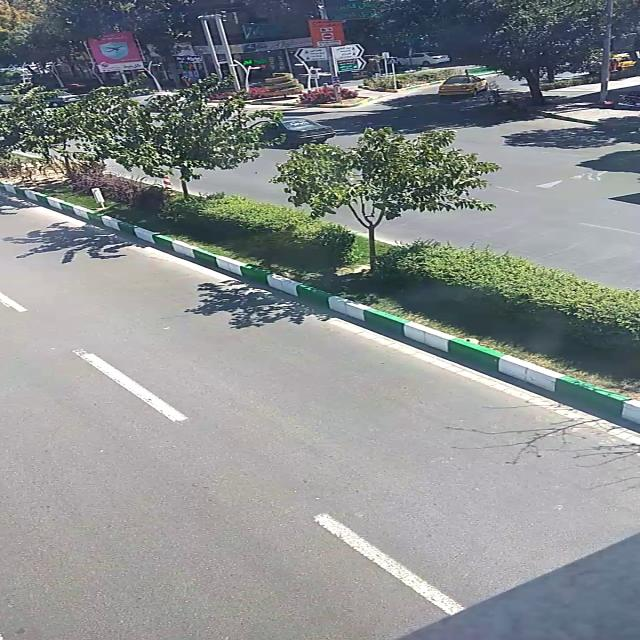car: (254, 119, 334, 145), (439, 75, 489, 97), (398, 50, 450, 66)
